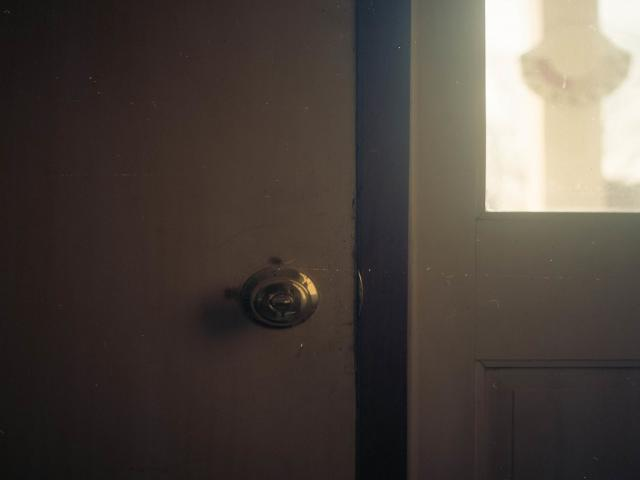Door-handle: (239, 266, 318, 330)
